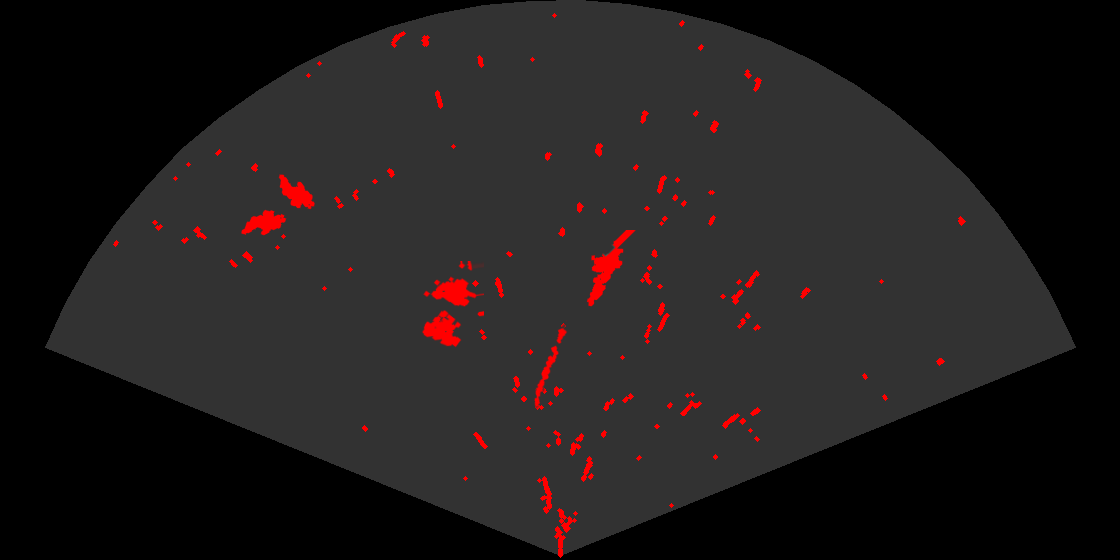AUV: (277, 173, 316, 211), (240, 208, 288, 237)
cage: (420, 261, 484, 349)
chain: (533, 320, 569, 409)
frogman: (585, 230, 637, 308)
